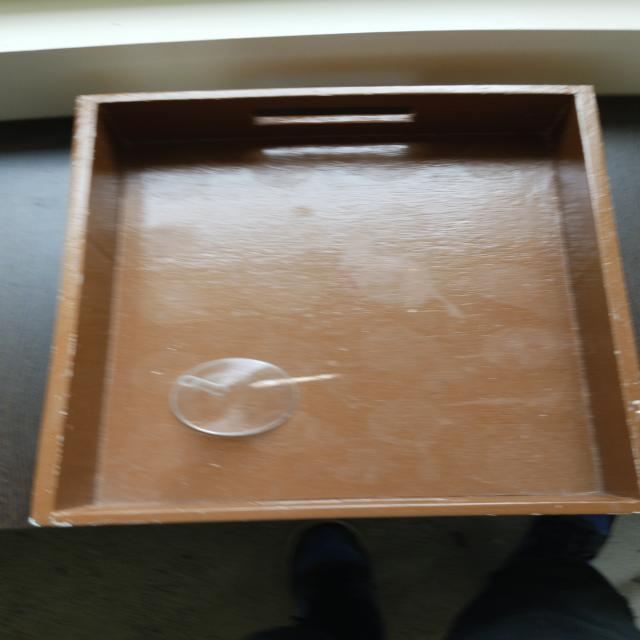funnel: (152, 357, 307, 437)
